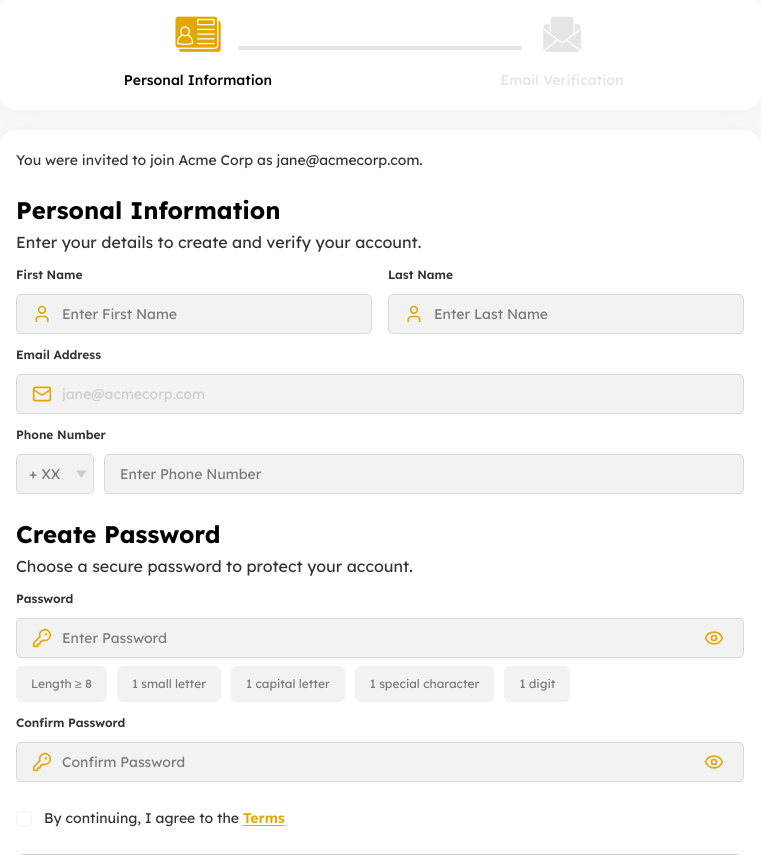
Test: AcceptInvitePage › invited-user journey › offers a phone field that keeps digits only
The image size is (761, 855).
Type "+1 (555) 123-4567" into the field labelled "Phone Number" at (424,474), box [120,464,728,484]
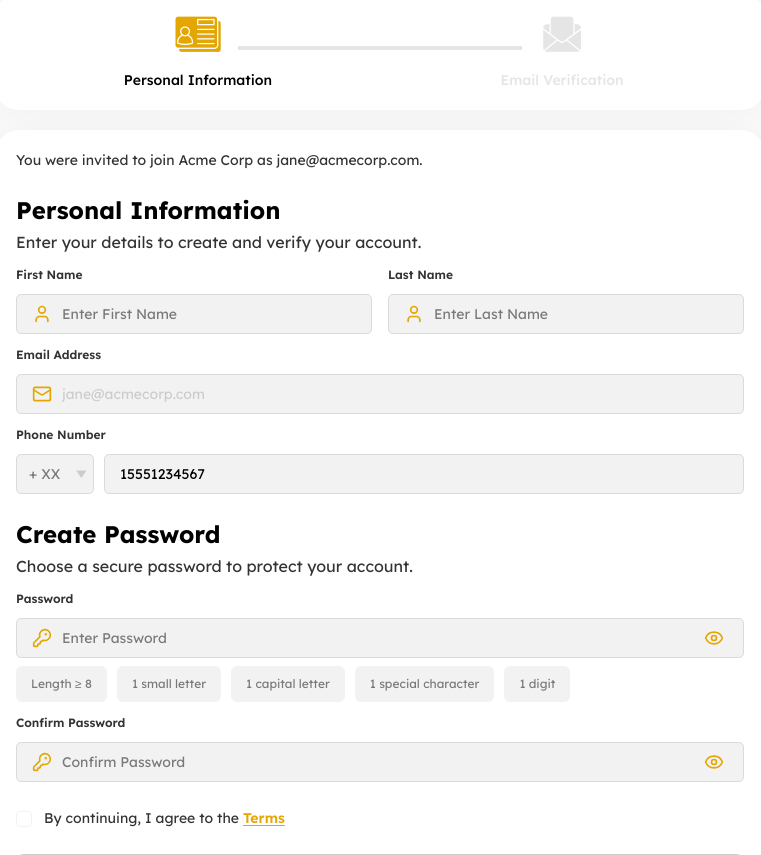
expect the field labelled "Phone Number" holds "15551234567": met, box [120,464,728,484]
